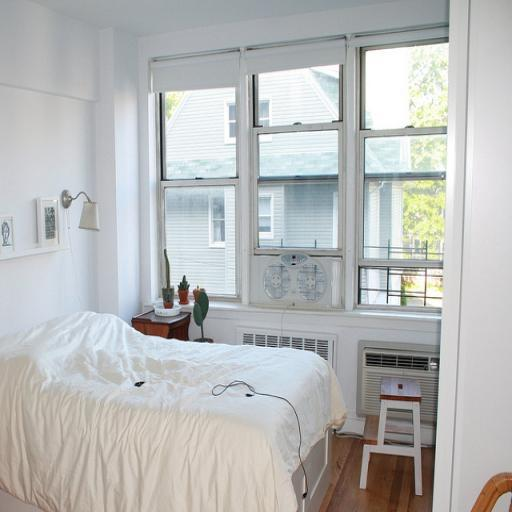bed: (10, 296, 352, 512)
